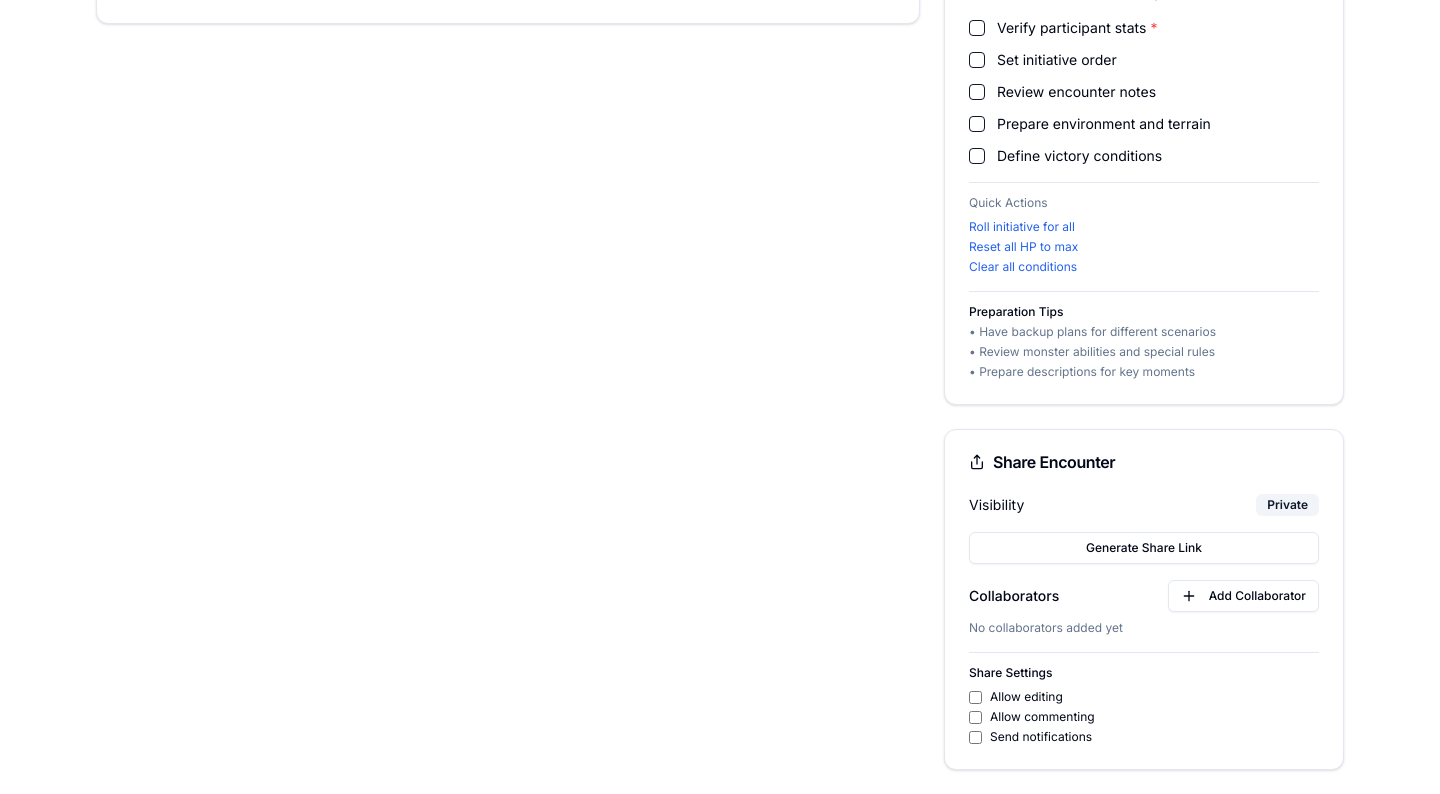
Test case: EncounterDetailClient › Sharing and Collaboration › should show share link generation
This screenshot has width=1440, height=794.
(page scrolled)
Click the button "Generate Share Link".
click(1144, 548)  # box [969,532,1319,564]
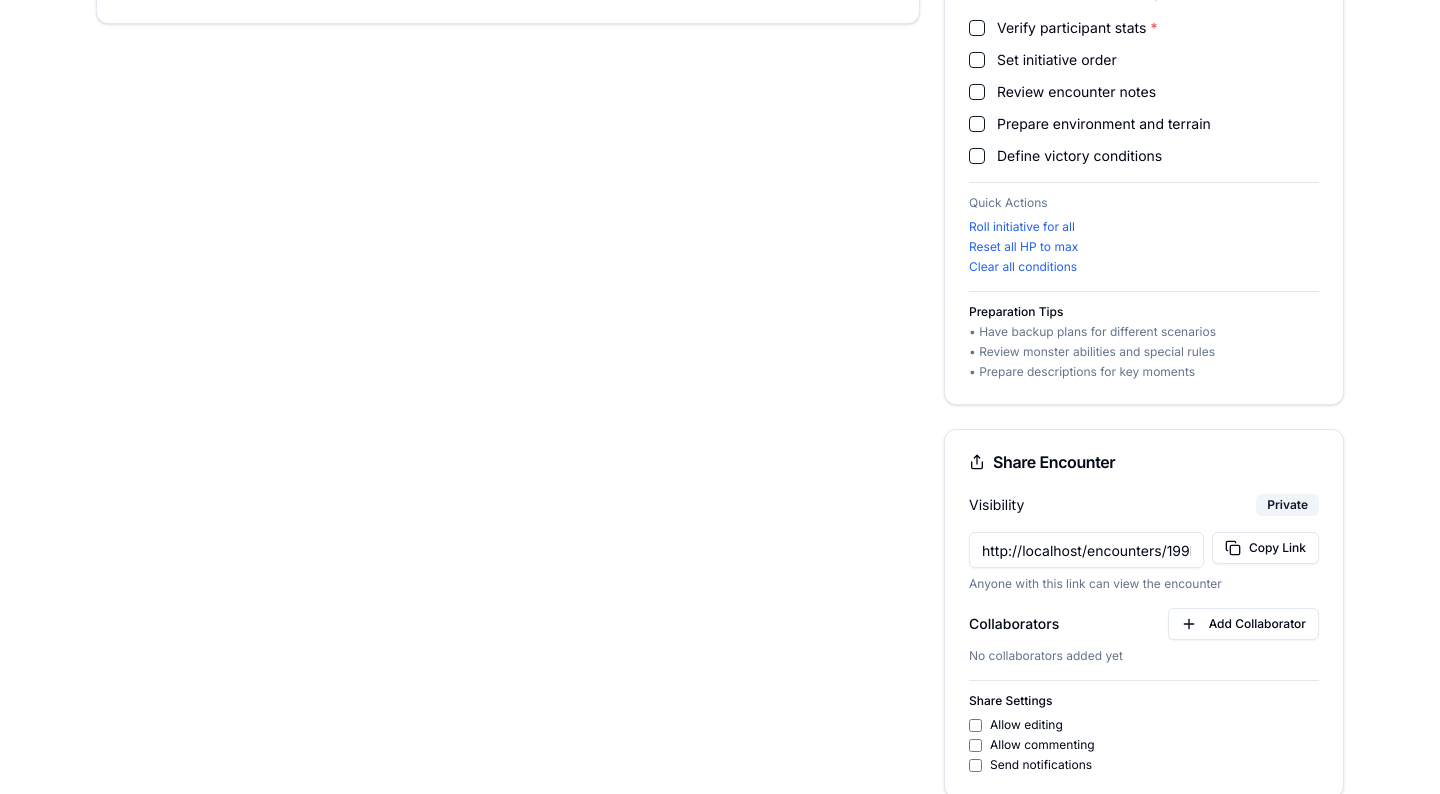
Now the button "Copy Link" is shown, box [1212,532,1319,564]
